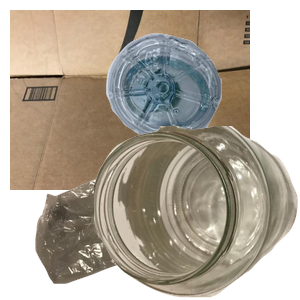cardboard: (10, 10, 250, 190)
glass: (94, 126, 300, 300)
plastic: (104, 31, 300, 168)
trash: (33, 145, 270, 300)
